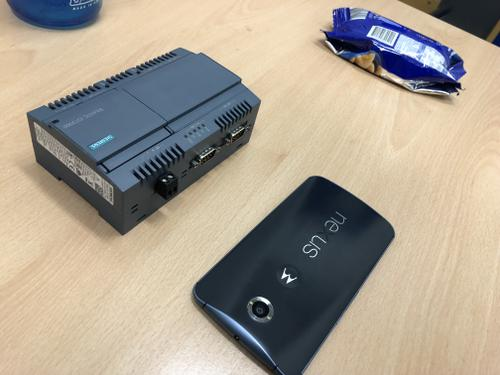device: (27, 47, 262, 236)
